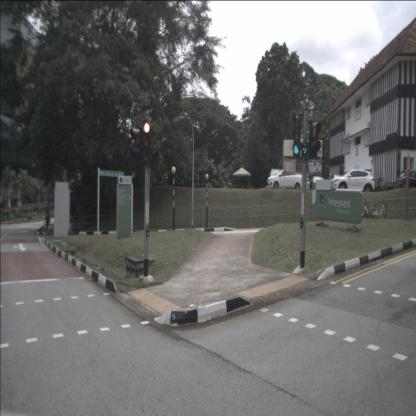human-pedestrian-adult: (44, 209, 50, 231), (378, 177, 382, 194)
vehicle-bicycle: (369, 196, 388, 220), (353, 198, 372, 220)
vehicle-car: (331, 169, 375, 196), (266, 168, 304, 191), (395, 169, 416, 195), (310, 176, 326, 192)
